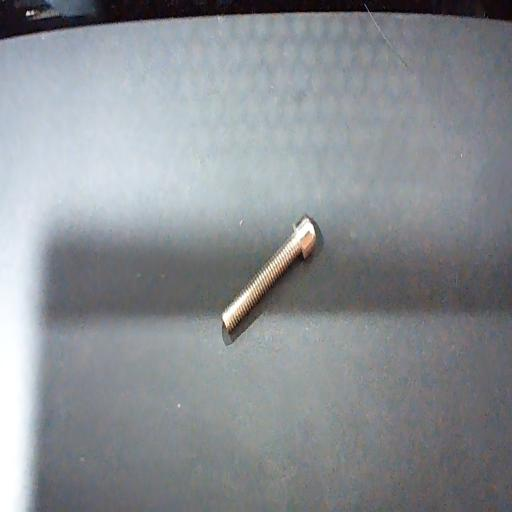screw: (221, 213, 315, 333)
